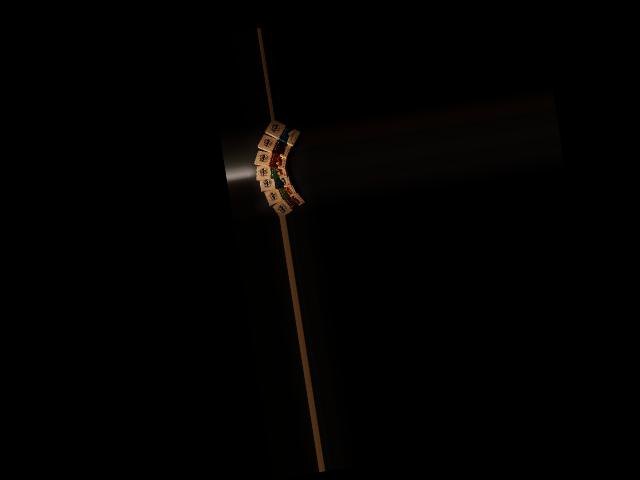chocolate: (262, 116, 305, 150)
